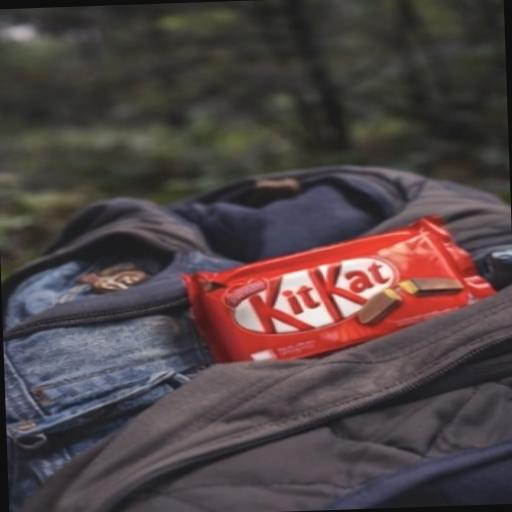kitkat: (137, 205, 512, 438)
